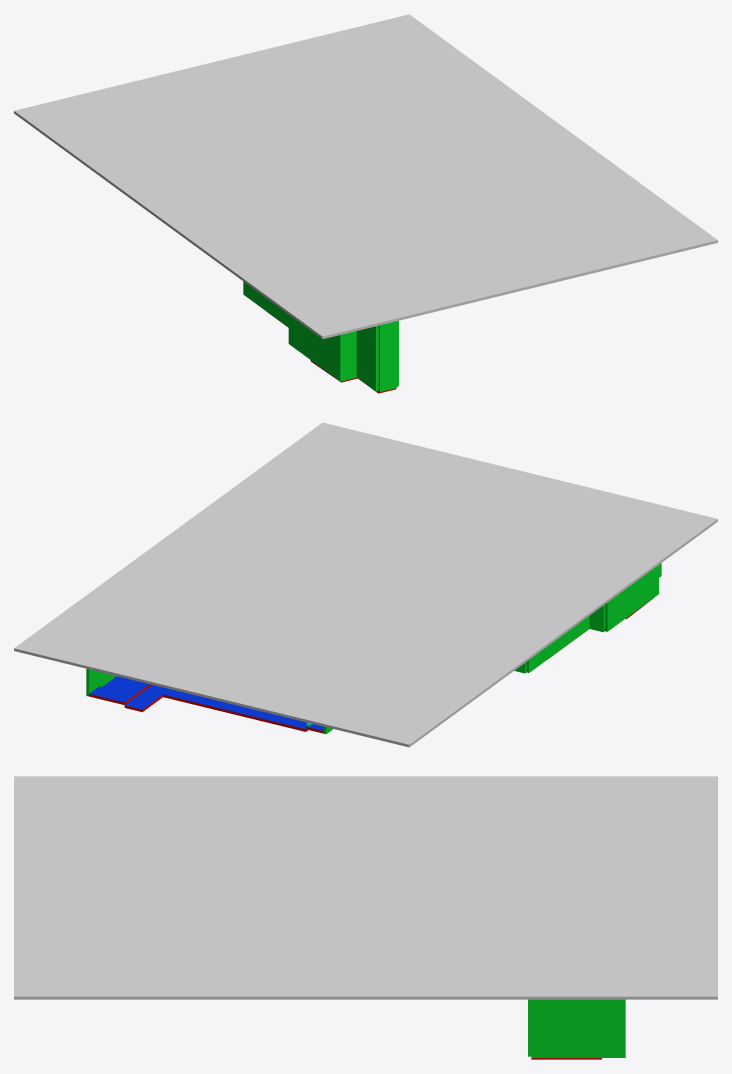
The model's file is level 0.fbx.
3 views of the same model, one above another, from view 1: azimuth 30°, elevation 25°; view 2: azimuth 150°, elevation 25°; view 3: azimuth 270°, elevation 25° (orthographic). The views are drawn at different scales.
Parts seen in each view (by area): view 1: Cube.007, walls.002; view 2: Cube.007, walls.002, floors; view 3: Cube.007, walls.002.
Boxes of the visible parts, box(x1,y1,x2,y2) form: Cube.007: box(14, 14, 717, 339); walls.002: box(243, 281, 398, 391); Cube.007: box(14, 422, 717, 747); walls.002: box(86, 563, 661, 734); floors: box(89, 598, 653, 733); Cube.007: box(14, 776, 717, 999); walls.002: box(528, 999, 625, 1057).
Size of the model in its own units: 15500 by 2700 by 20950.
